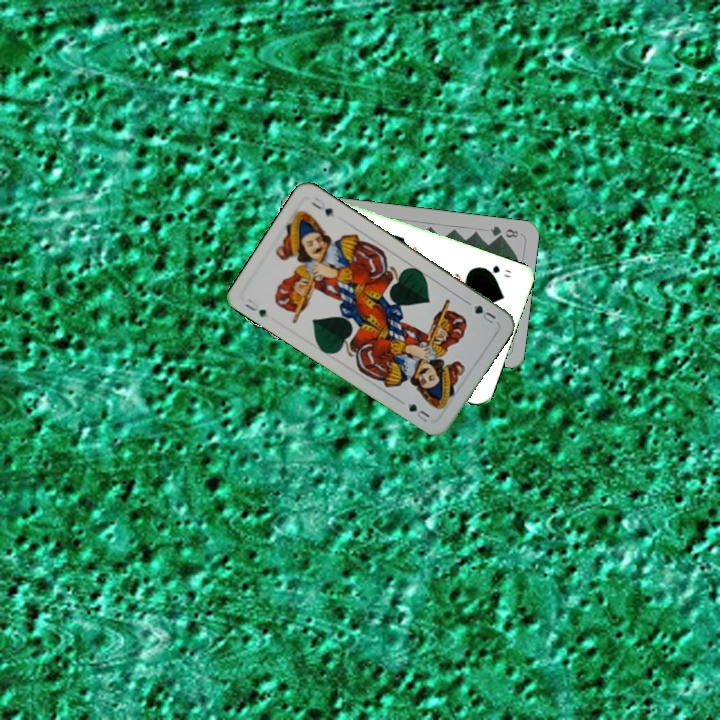G8: (486, 222, 521, 241)
GO: (478, 261, 513, 280)
GU: (469, 301, 499, 327), (240, 295, 269, 320)
